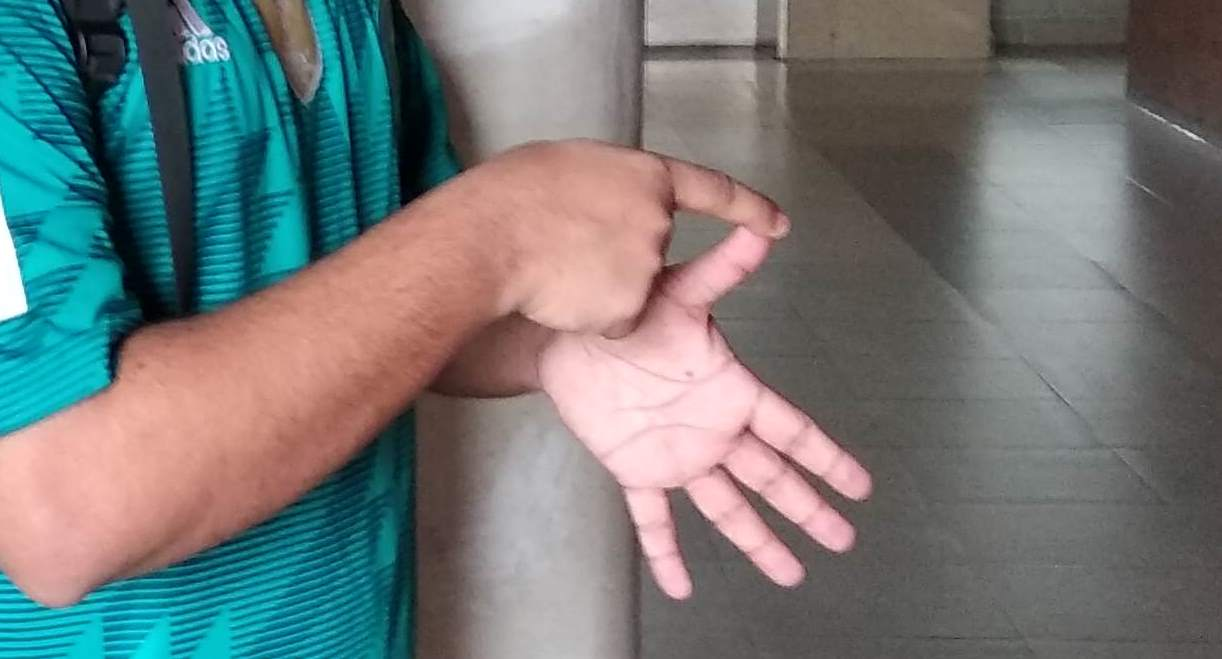a: (541, 151, 868, 620)
